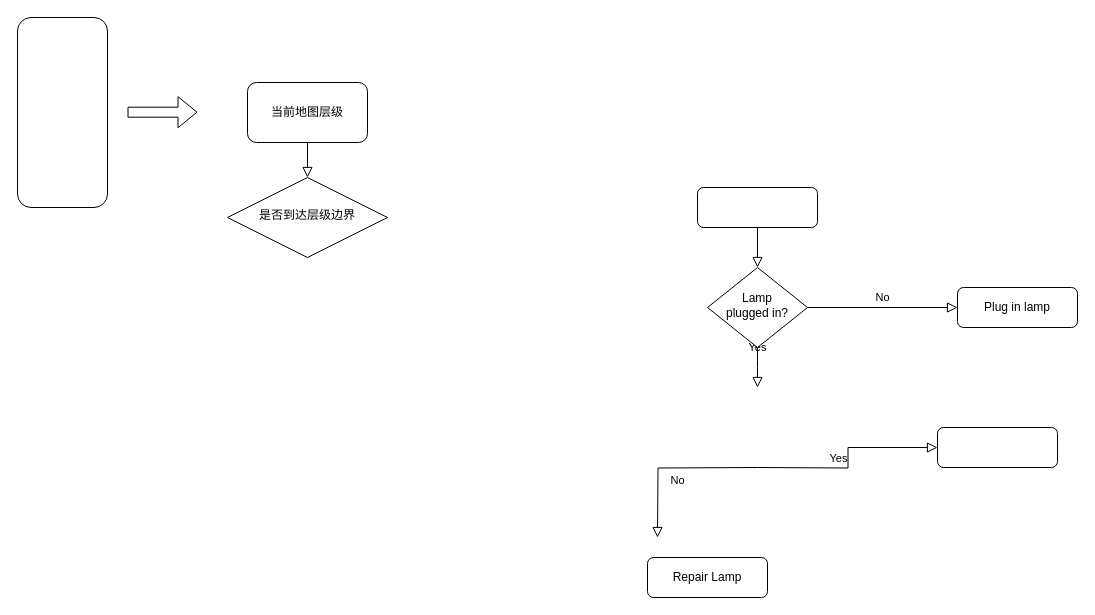
This 1095x615 diagram has some shape labels left out. The shapes that lost their labels are listed below. From the top down, each one's centre as x and y in pixels, then its label:
the point at 62,112: 玩家缩放操作
the point at 757,207: GameLevel_1
the point at 997,447: Replace Bulb
